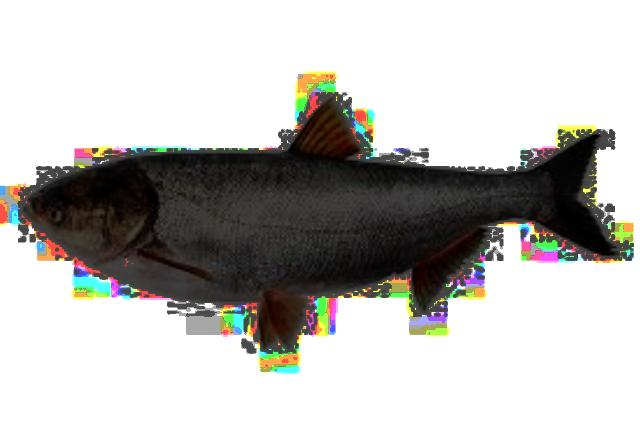Healthy Fish: (23, 102, 614, 303)
